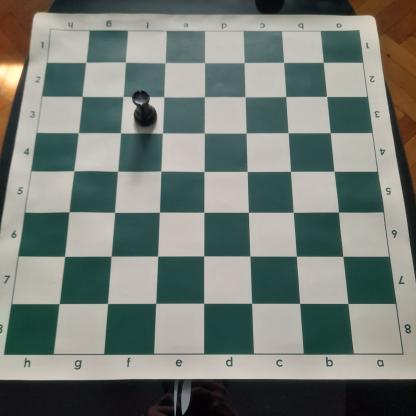black-rook: (129, 89, 162, 128)
